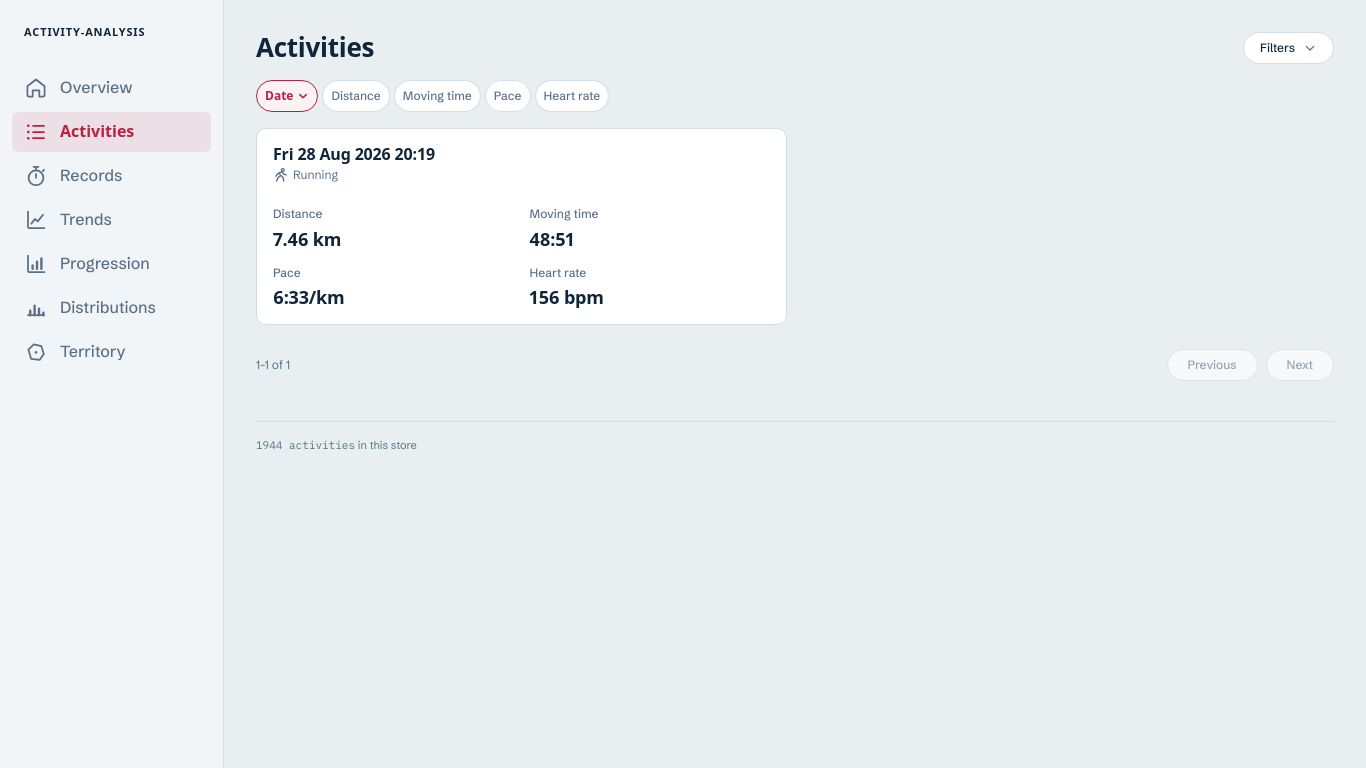
Test: Activities › lands the reader on activities, with every filter behind one disclosure
Expected: the dropdown labelled "Sport" is not shown
Click the button "Filters" at [1289, 48], box 1243,32 -> 1334,64
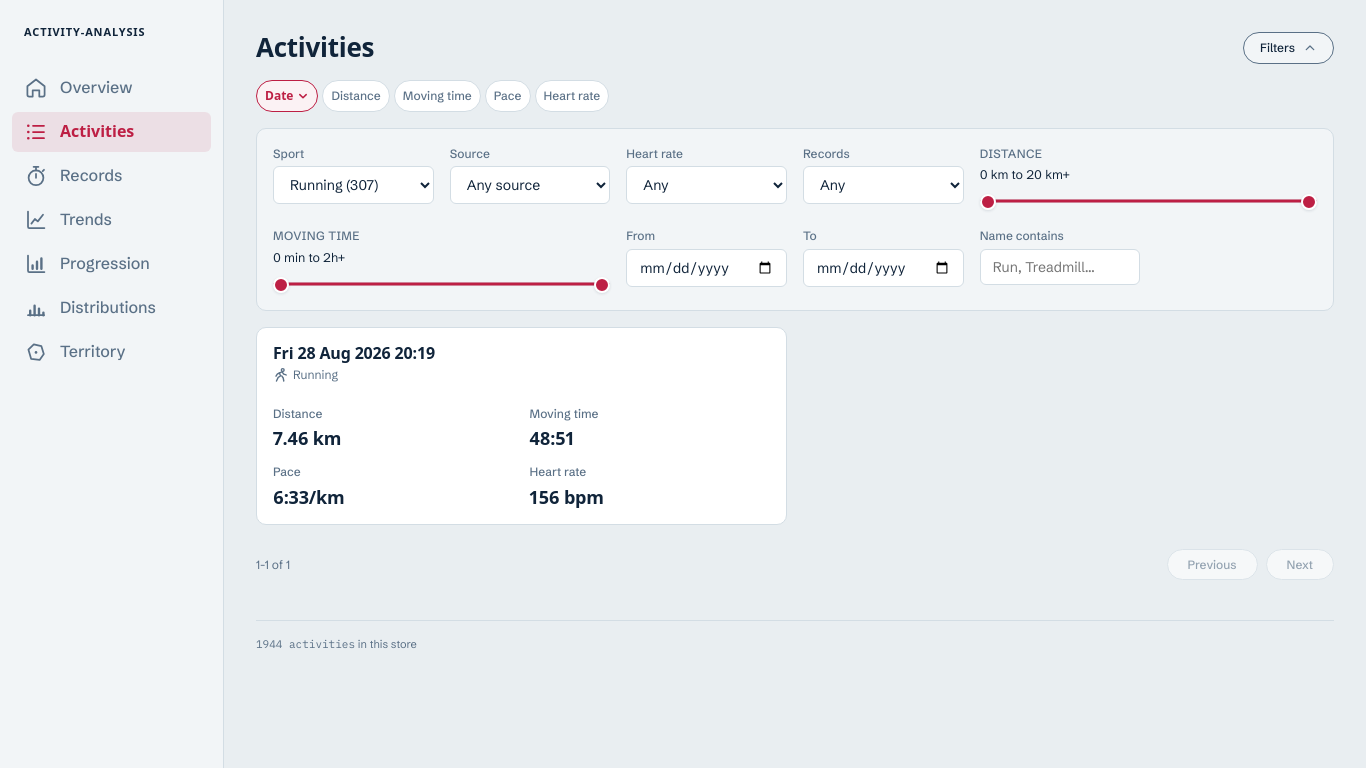
Expected: the button "Filters" is expanded, 1243,32 -> 1334,64
Expected: the dropdown labelled "Sport" is shown, 273,166 -> 434,204
Expected: the slider named "Distance, minimum" is shown, 980,192 -> 1317,212
